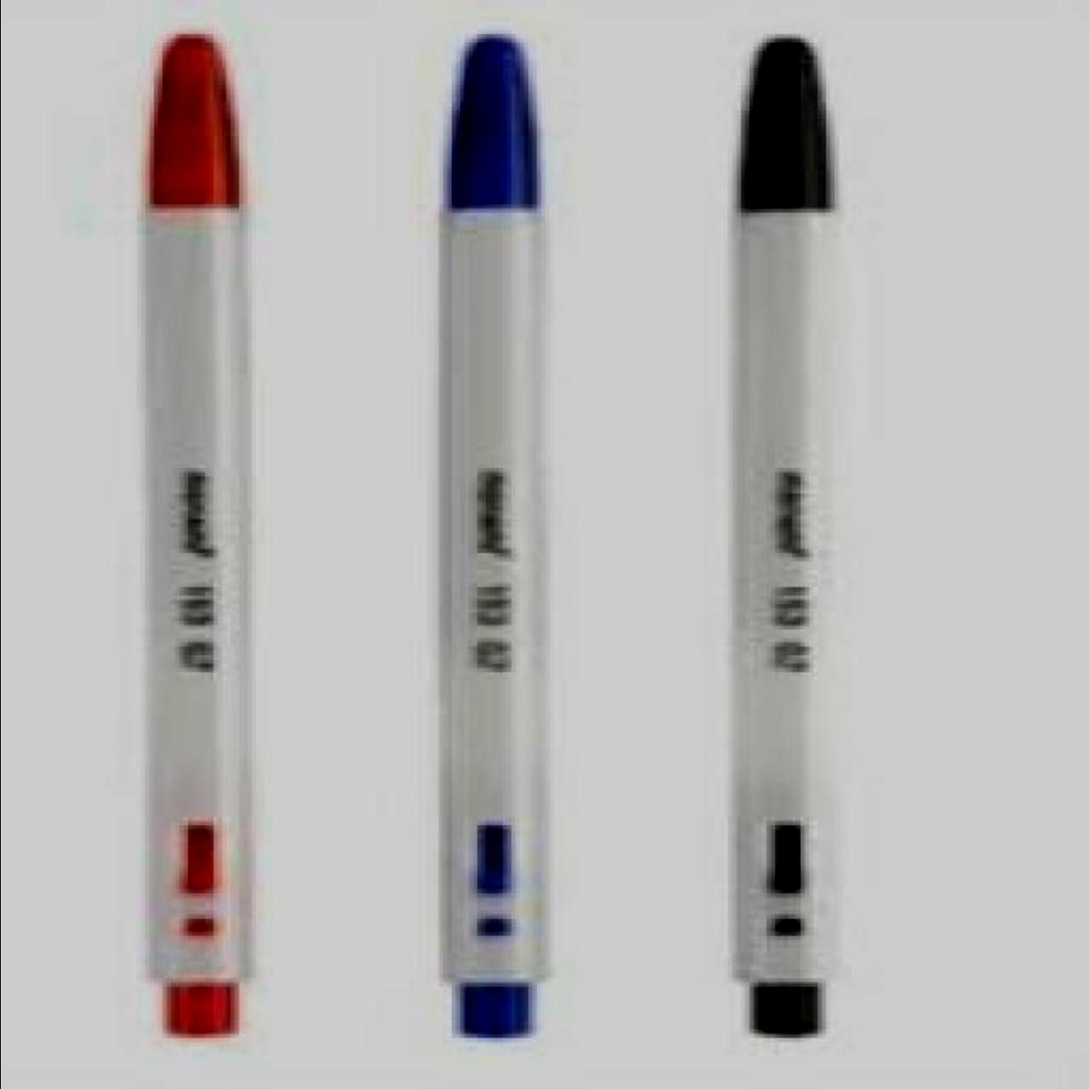pen: (713, 39, 846, 1040)
